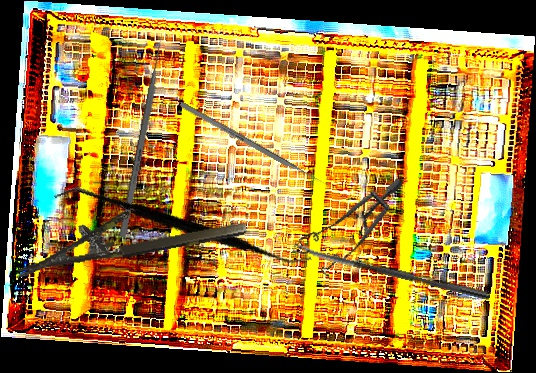Needle Holder: (10, 191, 248, 278)
Pusher: (179, 101, 330, 189), (118, 32, 167, 238)
Spatula Surgical: (53, 133, 313, 323)
Speculum: (287, 152, 404, 291)
Surgical Spoon: (292, 242, 492, 301)
